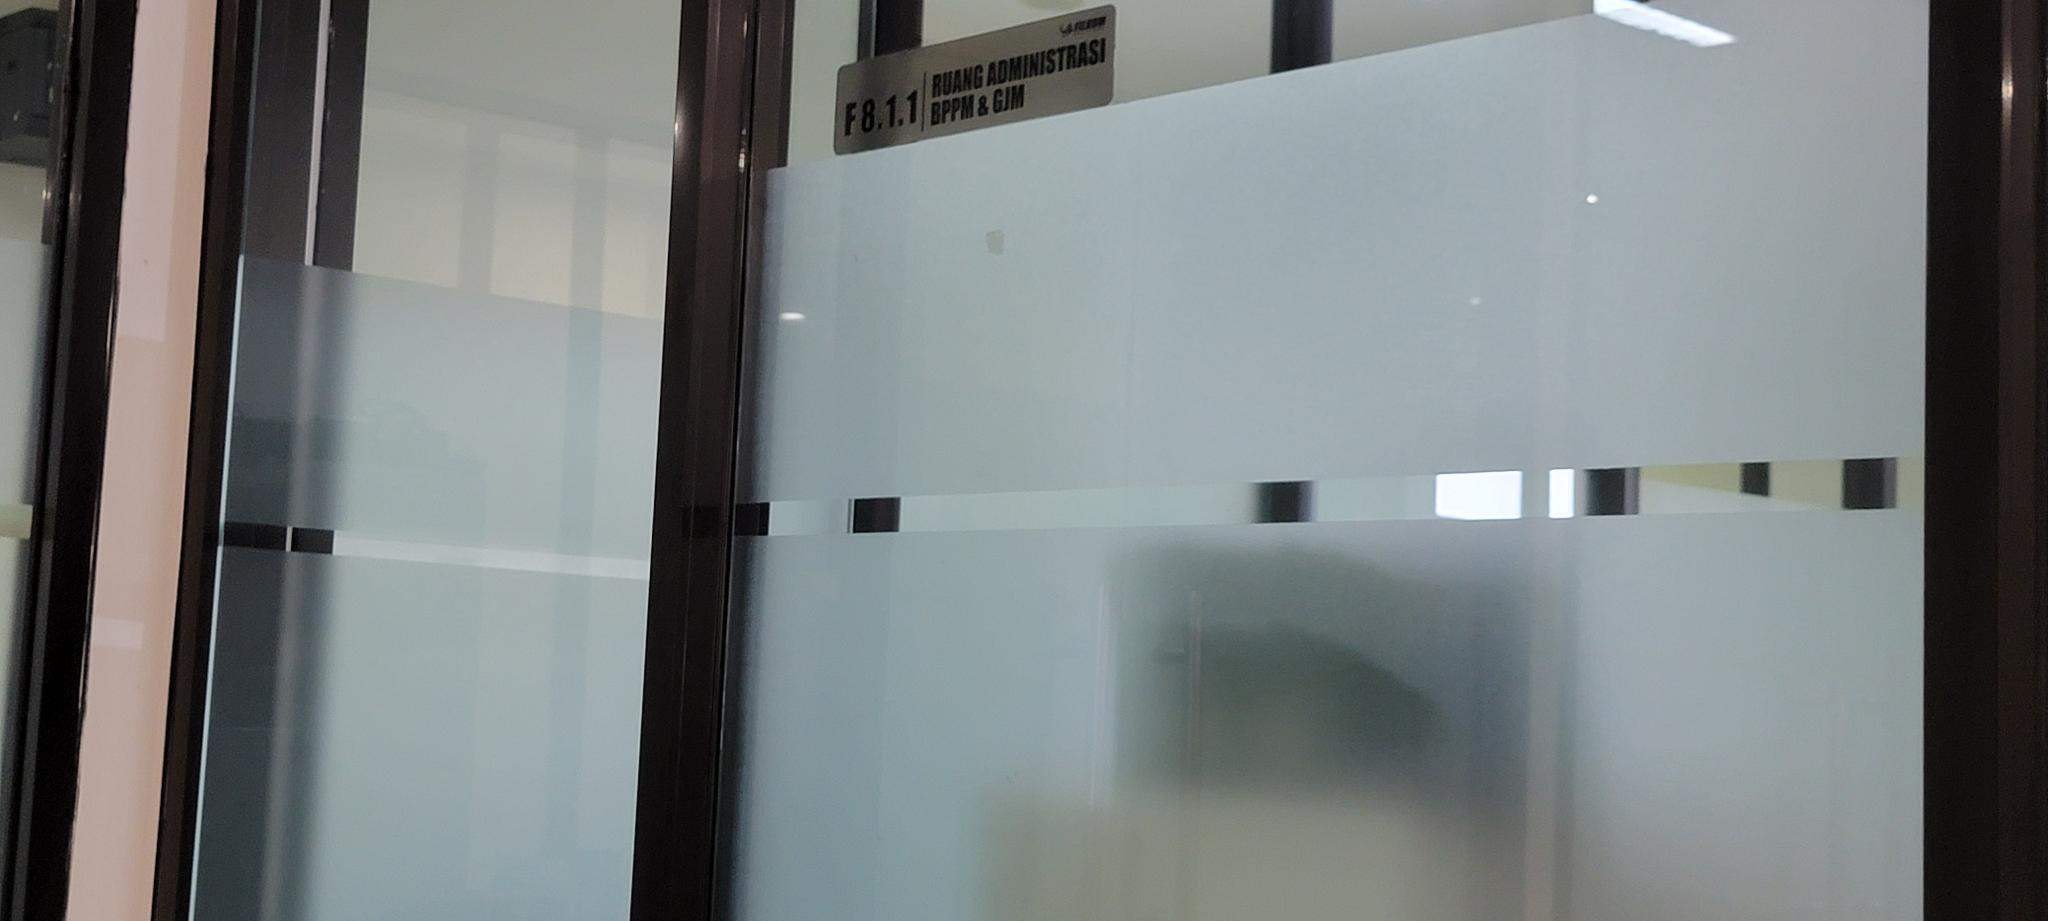plate: (836, 3, 1116, 155)
